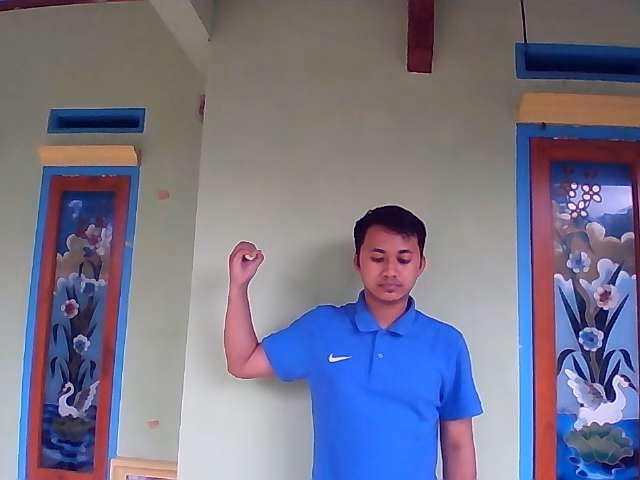O: (227, 239, 264, 283)
